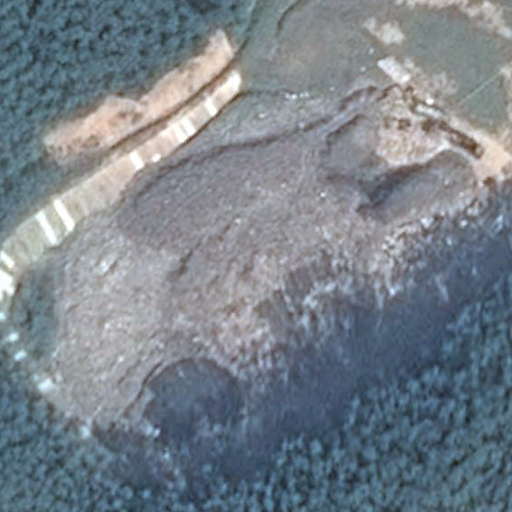msw: (54, 94, 479, 434)
